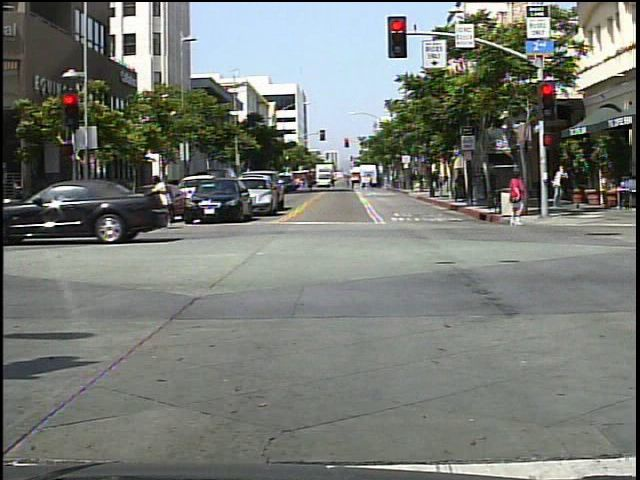person: (5, 173, 42, 239), (147, 171, 179, 235), (501, 168, 532, 230), (549, 160, 571, 211)
